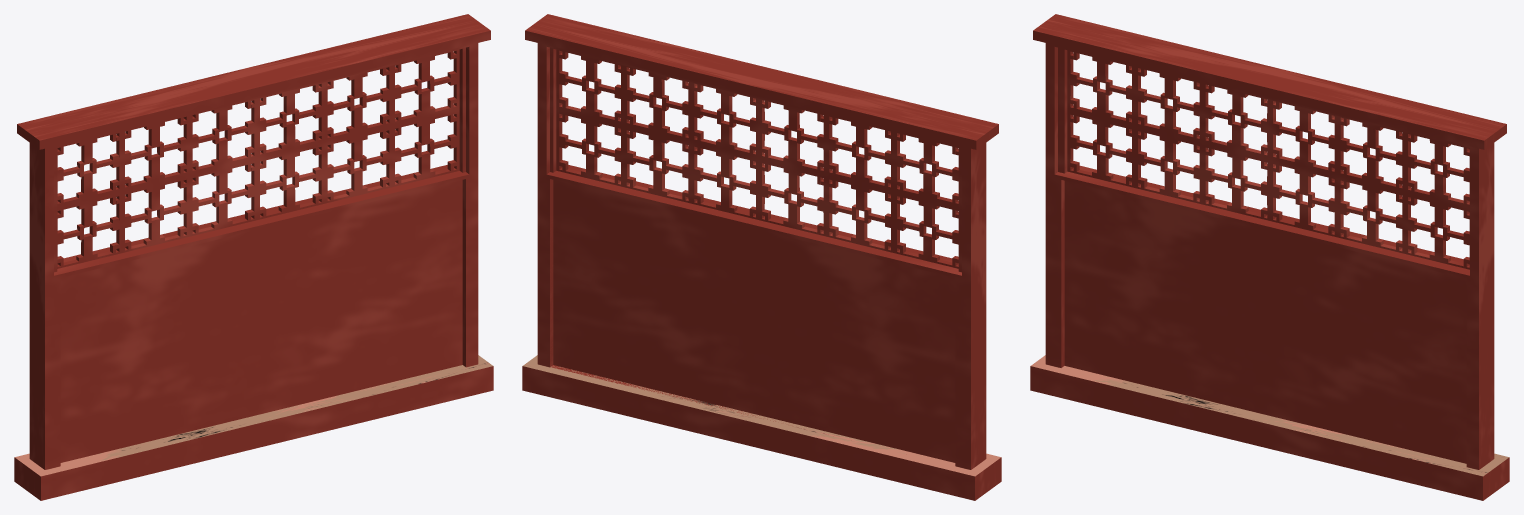
The model's file is chinese_wall.fbx.
The picture shows the model from 3 angles, left to right: view 1: azimuth 30°, elevation 25°; view 2: azimuth 150°, elevation 25°; view 3: azimuth 330°, elevation 25°; orthographic projection.
Parts seen in each view (by area): view 1: pCube3, pPlane15; view 2: pCube3, pPlane15; view 3: pCube3, pPlane15.
Part boxes in pixels (x1,y1,x2,y2): pCube3: [14, 14, 493, 500]; pPlane15: [57, 49, 459, 268]; pCube3: [522, 14, 1001, 500]; pPlane15: [556, 49, 958, 268]; pCube3: [1030, 14, 1509, 500]; pPlane15: [1067, 50, 1469, 269].
Size of the model in its own units: 127 by 96.34 by 12.83.
Materials: 1 (1 with a texture image).
